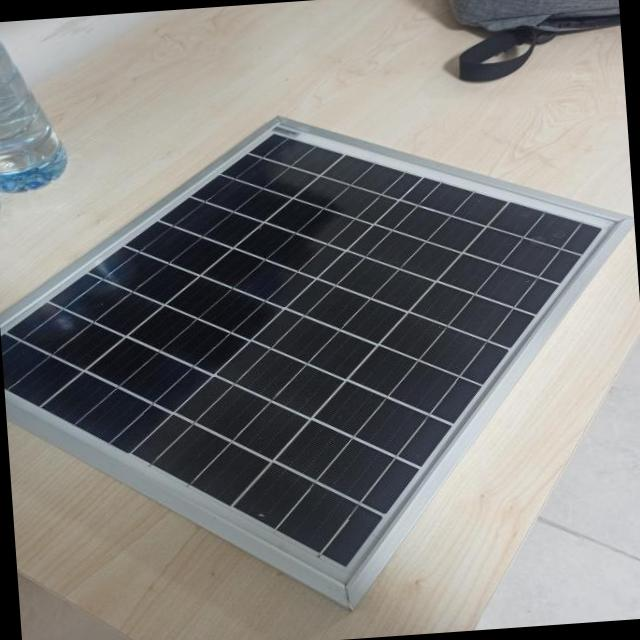no faulty: (0, 128, 596, 561)
